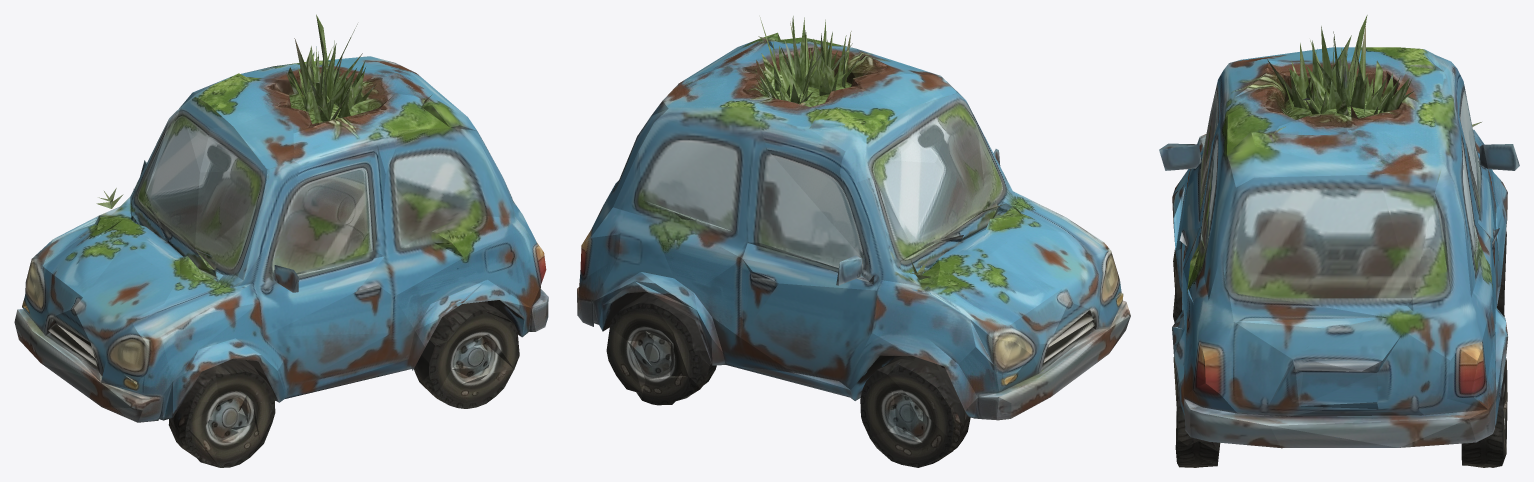
The model's file is meshy.glb.
The picture shows the model from 3 angles, left to right: view 1: azimuth 30°, elevation 25°; view 2: azimuth 150°, elevation 25°; view 3: azimuth 270°, elevation 25°; orthographic projection. The views are drawn at different scales.
Size of the model in its own units: 1.89 by 1.47 by 1.18.
1 material, 1 textured.
